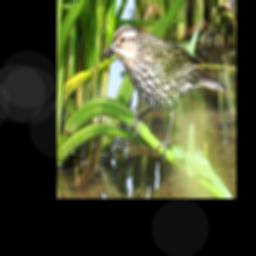Sparrow: (105, 23, 229, 160)
